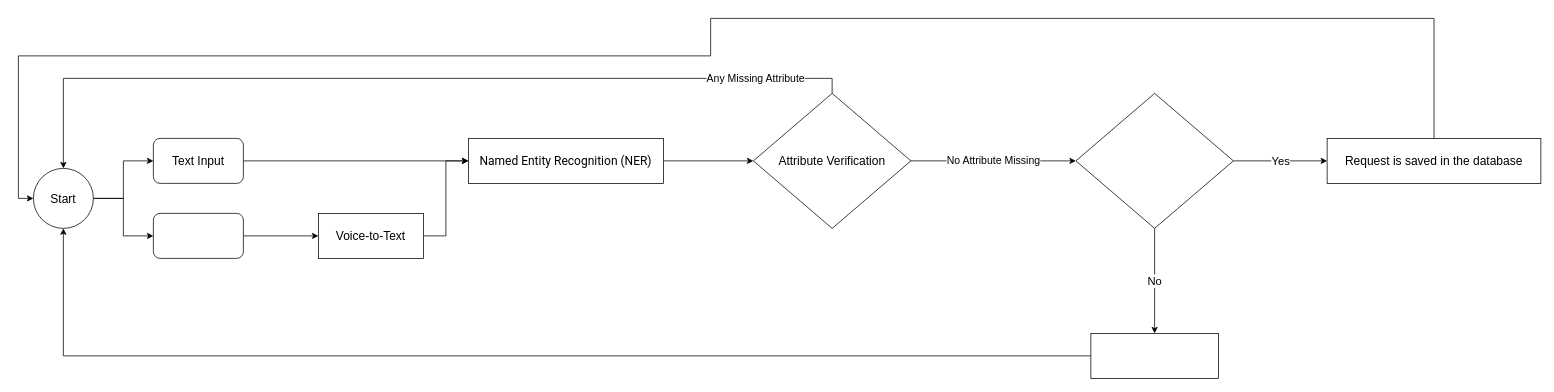
The diagram is 1554 pixels wide and 392 high, and some of its shapes have lost their labels. The shapes that lost their labels are listed below. From the top down, each one's box as (x1, y1, x2, y2) in pixels, then its label:
(1075, 93, 1233, 228): Confirmation(Yes/No)
(153, 213, 243, 258): Voice Input
(1090, 333, 1218, 378): Request Cancel
